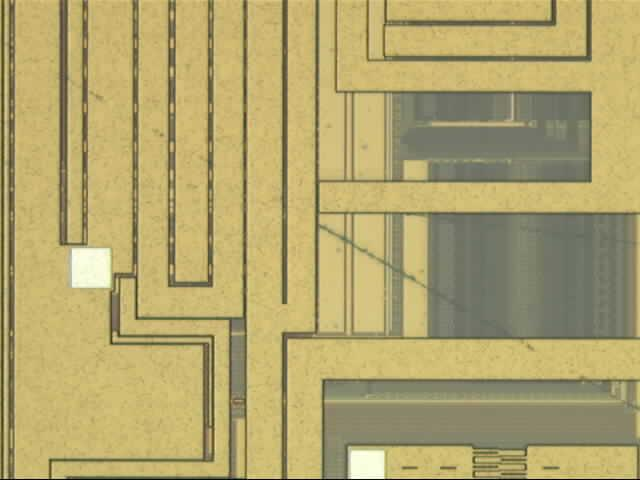SCRATCH: (1, 33, 640, 422)
